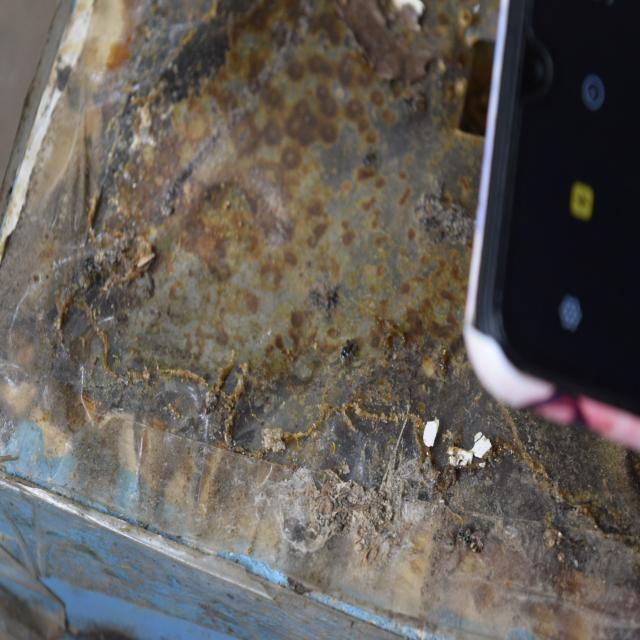honeybee: (338, 332, 358, 372)
